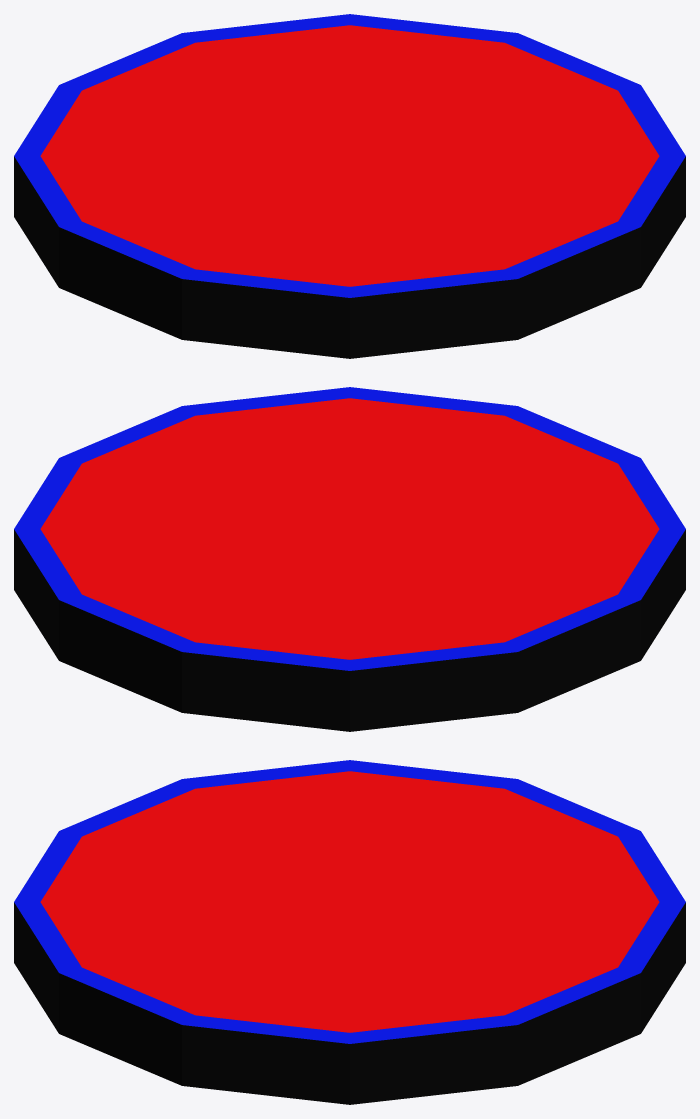
File: Circle_Floating_Platform.fbx
The picture shows the model from 3 angles, top to bottom: view 1: azimuth 30°, elevation 25°; view 2: azimuth 150°, elevation 25°; view 3: azimuth 270°, elevation 25°; orthographic projection.
Parts seen in each view (by area): view 1: Circle_Floating_Platform; view 2: Circle_Floating_Platform; view 3: Circle_Floating_Platform.
Part boxes in pixels (<box>): Circle_Floating_Platform: <box>14,14,685,358</box>; Circle_Floating_Platform: <box>14,387,685,731</box>; Circle_Floating_Platform: <box>14,760,685,1104</box>.
Bounding box in the file's own units: 5 × 0.5 × 5.
1 material, 1 textured.
